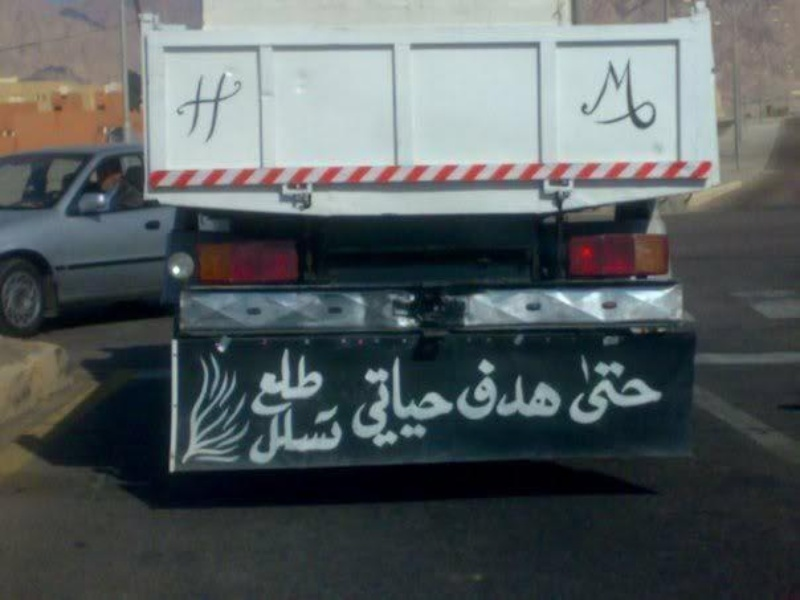text: (369, 346, 384, 451), (385, 346, 400, 451), (401, 346, 416, 451), (417, 346, 432, 451), (433, 346, 448, 451), (641, 55, 657, 132), (273, 344, 288, 426), (289, 344, 304, 426), (305, 344, 320, 426), (593, 55, 608, 132), (609, 55, 624, 132), (625, 55, 640, 132), (577, 349, 592, 426), (593, 349, 608, 426), (609, 349, 624, 426), (625, 349, 640, 426), (641, 349, 656, 426), (273, 395, 288, 468), (289, 395, 304, 468), (305, 395, 320, 468), (321, 395, 336, 468), (177, 72, 192, 144), (193, 72, 208, 144), (209, 72, 224, 144), (225, 72, 240, 144), (465, 357, 480, 420), (481, 357, 496, 420), (497, 357, 512, 420), (513, 357, 528, 420), (529, 357, 544, 420), (545, 357, 560, 420), (581, 55, 592, 132), (261, 395, 272, 468), (566, 349, 576, 426), (263, 344, 272, 426), (449, 346, 456, 451), (657, 349, 665, 426), (337, 395, 344, 468), (457, 357, 464, 420), (321, 344, 325, 426), (366, 346, 368, 451), (241, 72, 243, 144), (175, 72, 176, 144), (561, 357, 562, 420)
